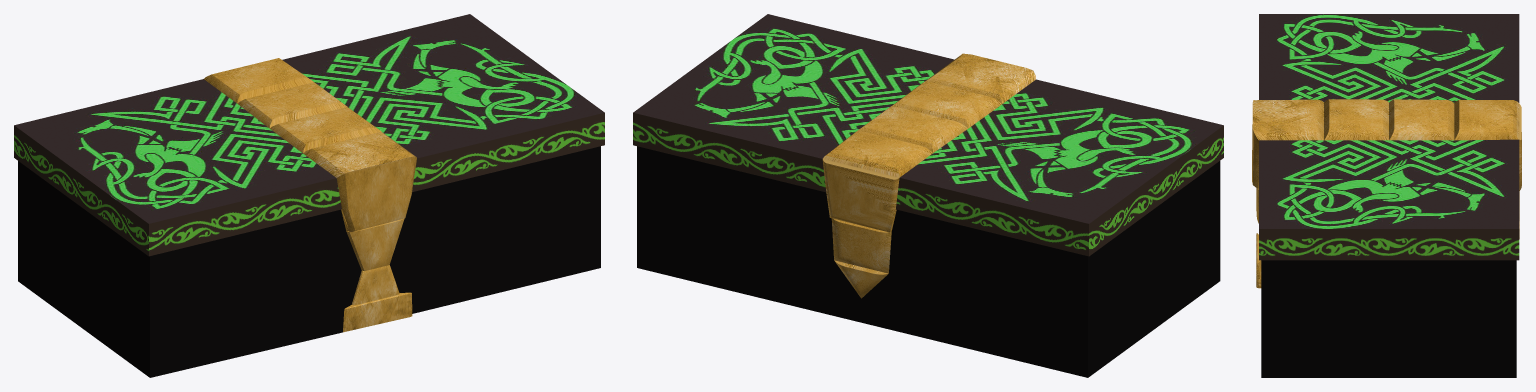
File: chestWithoutOptimization.obj
3 views of the same model, side by side, from view 1: azimuth 30°, elevation 25°; view 2: azimuth 150°, elevation 25°; view 3: azimuth 270°, elevation 25° (orthographic). The views are drawn at different scales.
Visible parts, largest first — view 1: chest; view 2: chest; view 3: chest.
Part boxes in pixels (bbox=[...]): chest: bbox=[14, 14, 604, 377]; chest: bbox=[633, 14, 1223, 377]; chest: bbox=[1252, 14, 1521, 377].
Size of the model in its own units: 99.62 by 33.94 by 52.88.
Materials: 4 (3 with a texture image).
